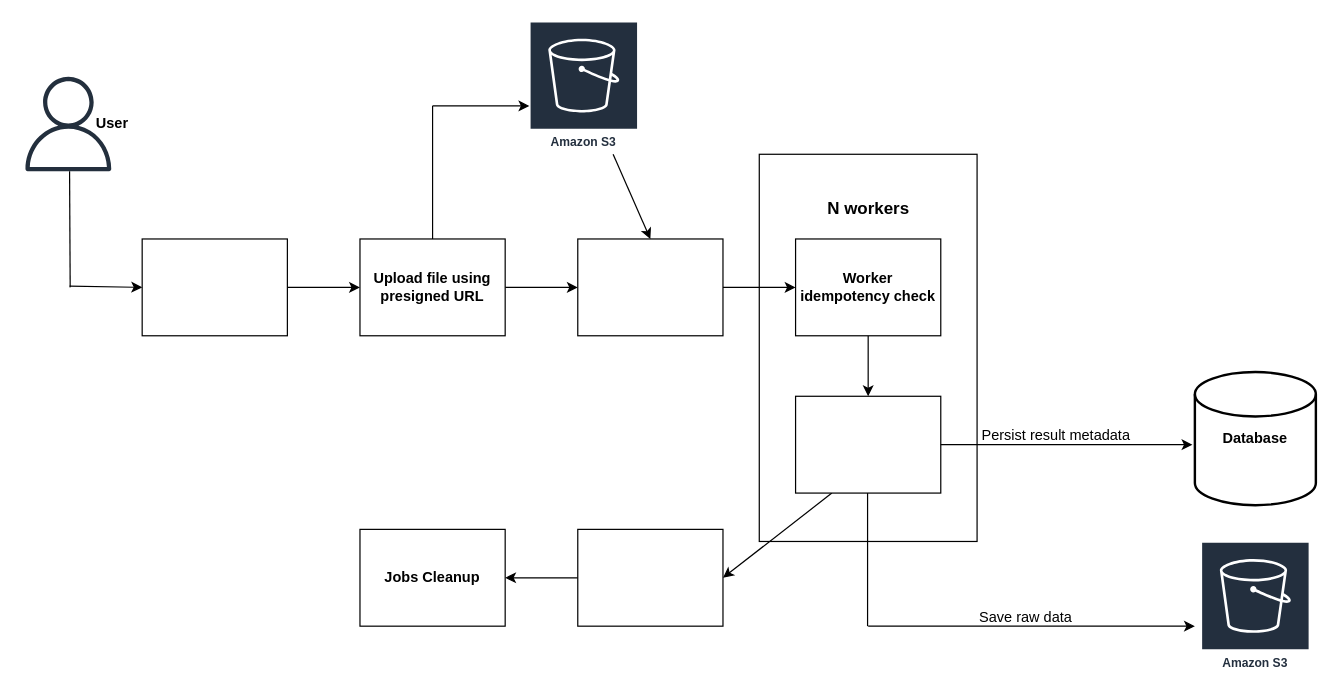
Some shapes in this 1337 by 696 pixel diagram are drawn without their labels. Here are the shapes that lost their labels. From the top down, the centre of each, then its label:
(x=214, y=287): Generate S3 Presigned URL
(x=650, y=287): S3 Webhook notifies server
(x=867, y=444): Process the data
(x=650, y=577): Completion Webhook
